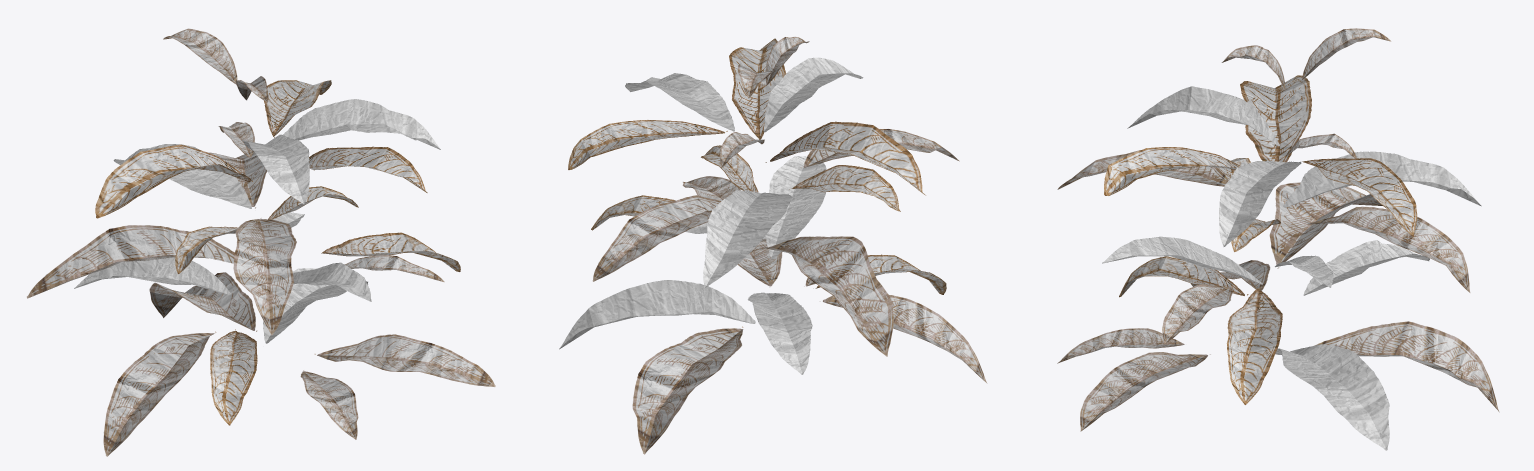
The model's file is sapling-v3.gltf.
3 renders of one model, left to right at view 1: azimuth 30°, elevation 25°; view 2: azimuth 150°, elevation 25°; view 3: azimuth 270°, elevation 25°, orthographic. The views are drawn at different scales.
Parts seen in each view (by area): view 1: 18-ppleaf-full.020, 12-ppleaf-full.019, 10-ppleaf-full.010, 22-ppleaf-full.017, 5-ppleaf-mid.013, 6-ppleaf-none.006, 19-ppleaf-mid.015, 20-ppleaf-full.014, 17-ppleaf-none.015, 2-ppleaf-none.014, 7-ppleaf-mid.011, 16-ppleaf-mid.002 (+12 smaller); view 2: 12-ppleaf-full.019, 20-ppleaf-full.014, 21-ppleaf-none.003, 7-ppleaf-none.005, 8-ppleaf-full.006, 5-ppleaf-mid.013, 17-ppleaf-none.015, 3-ppleaf-mid.014, 14-ppleaf-none.002, 18-ppleaf-full.020, 2-ppleaf-none.014, 7-ppleaf-mid.011 (+11 smaller); view 3: 21-ppleaf-none.003, 20-ppleaf-full.014, 16-ppleaf-mid.002, 5-ppleaf-mid.013, 12-ppleaf-full.019, 8-ppleaf-full.006, 22-ppleaf-full.017, 6-ppleaf-none.006, 3-ppleaf-mid.014, 7-ppleaf-none.005, 7-ppleaf-mid.011, 2-ppleaf-none.014 (+12 smaller).
Part boxes in pixels (x1,y1,x2,y2): 18-ppleaf-full.020: (103, 331, 216, 456); 12-ppleaf-full.019: (27, 225, 234, 298); 10-ppleaf-full.010: (233, 218, 296, 335); 22-ppleaf-full.017: (314, 334, 495, 386); 5-ppleaf-mid.013: (95, 144, 252, 218); 6-ppleaf-none.006: (283, 99, 440, 149); 19-ppleaf-mid.015: (210, 329, 257, 425); 20-ppleaf-full.014: (149, 272, 257, 331); 17-ppleaf-none.015: (74, 257, 230, 294); 2-ppleaf-none.014: (242, 134, 309, 204); 7-ppleaf-mid.011: (309, 146, 427, 192); 16-ppleaf-mid.002: (321, 232, 460, 271); 12-ppleaf-full.019: (765, 236, 893, 356); 20-ppleaf-full.014: (632, 326, 743, 454); 21-ppleaf-none.003: (559, 280, 755, 349); 7-ppleaf-none.005: (703, 190, 792, 287); 8-ppleaf-full.006: (592, 195, 721, 281); 5-ppleaf-mid.013: (765, 121, 925, 195); 17-ppleaf-none.015: (748, 292, 812, 374); 3-ppleaf-mid.014: (568, 120, 727, 169); 14-ppleaf-none.002: (765, 156, 826, 258); 18-ppleaf-full.020: (820, 295, 987, 383); 2-ppleaf-none.014: (764, 57, 863, 132); 7-ppleaf-mid.011: (729, 38, 786, 139); 21-ppleaf-none.003: (1275, 344, 1389, 450); 20-ppleaf-full.014: (1314, 321, 1499, 412); 16-ppleaf-mid.002: (1226, 285, 1282, 404); 5-ppleaf-mid.013: (1240, 75, 1311, 162); 12-ppleaf-full.019: (1269, 182, 1382, 268); 8-ppleaf-full.006: (1304, 206, 1470, 292); 22-ppleaf-full.017: (1080, 352, 1210, 431); 6-ppleaf-none.006: (1219, 161, 1301, 246); 3-ppleaf-mid.014: (1302, 158, 1417, 236); 7-ppleaf-none.005: (1283, 151, 1481, 207); 7-ppleaf-mid.011: (1104, 147, 1240, 195); 2-ppleaf-none.014: (1127, 86, 1279, 146).
Bounding box in the file's own units: 0.8379 × 0.6841 × 0.8356.
3 materials, 3 textured.
